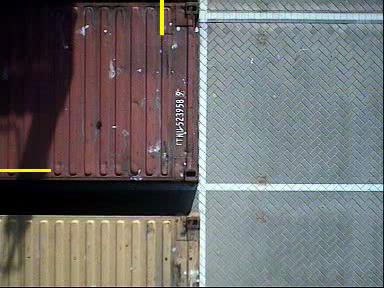groundmarker_2: (184, 254, 244, 287), (205, 48, 242, 99)
